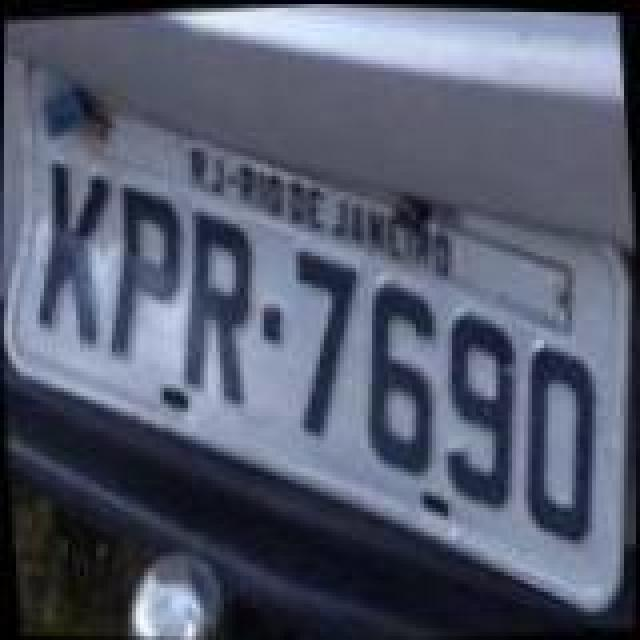6: (356, 280, 452, 476)
7: (284, 242, 372, 438)
9: (432, 306, 532, 510)
K: (24, 156, 124, 348)
O: (512, 338, 612, 546)
P: (94, 180, 194, 360)
R: (166, 202, 266, 406)
